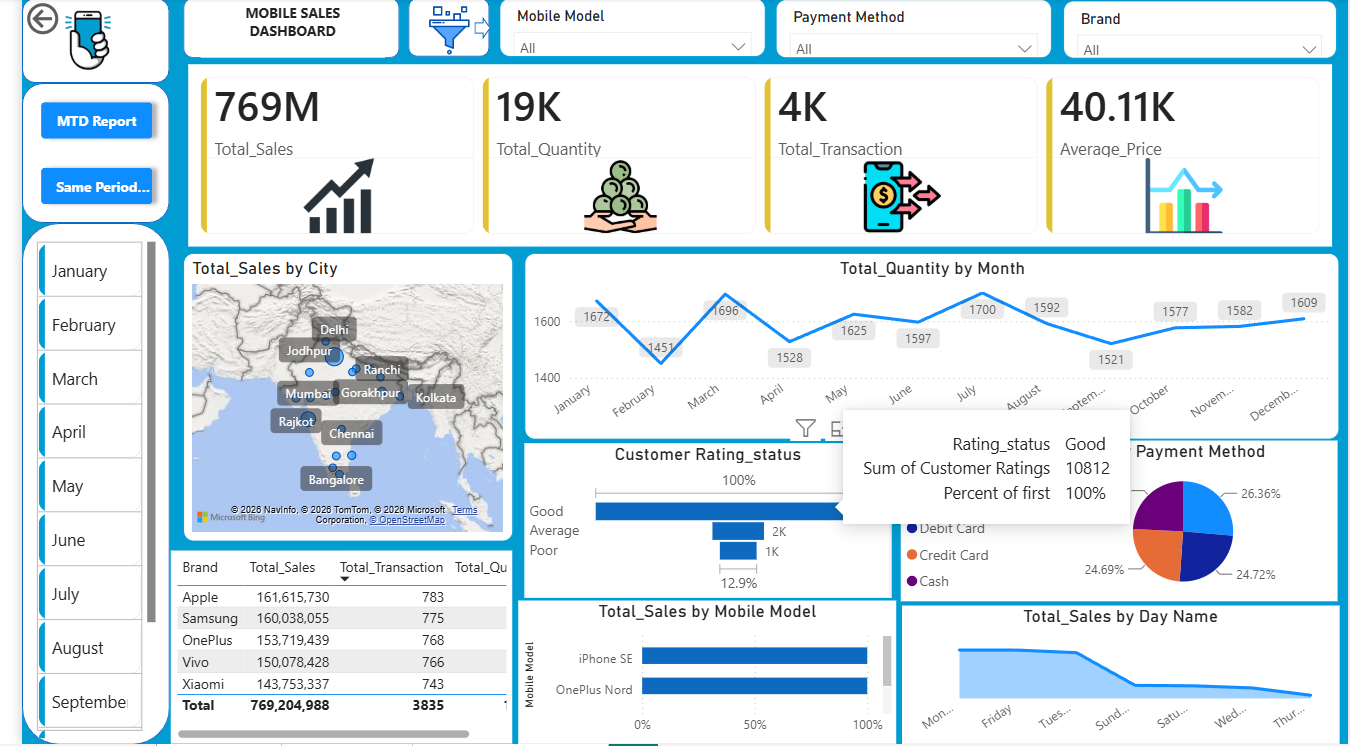

The dashboard page shown, as its layout file describes it:
{"tool":"powerbi","page":{"name":"Dashboard","canvas":[1280,720],"ordinal":0},"visuals":[{"type":"shape","box":[0,0,142.4,82],"z":0},{"type":"image","box":[26.5,0,74.8,78.4],"z":1000},{"type":"shape","box":[0,82,142.4,135.1],"z":2000},{"type":"shape","box":[0,216.8,142.7,503.6],"z":3000},{"type":"advancedSlicerVisual","fields":{"Values":["Custom_Calender.Column1.Variation.Date Hierarchy.Month"]},"box":[9.6,230.5,124.9,489.9],"z":4000},{"type":"cardVisual","fields":{"Data":["Mobile_Sales_Data.Total_Sales","Mobile_Sales_Data.Total_Quantity","Mobile_Sales_Data.Total_Transaction","Mobile_Sales_Data.Average_Price"]},"box":[155.6,59.1,1114.8,187],"z":5000},{"type":"slicer","fields":{"Values":["Mobile_Sales_Data.Mobile Model"]},"box":[460.9,0,257,56.7],"z":6000},{"type":"slicer","fields":{"Values":["Mobile_Sales_Data.Payment Method"]},"box":[727.5,1.2,266.6,56.7],"z":7000},{"type":"slicer","fields":{"Values":["Mobile_Sales_Data.Brand"]},"box":[1005,2.5,263.8,56.2],"z":8000},{"type":"shape","box":[372.8,0,78.4,56.7],"z":9000},{"type":"image","box":[388.5,4.8,48.3,53.1],"z":10000},{"type":"shape","box":[436.7,18.1,15.7,21.7],"z":11000},{"type":"shape","box":[155.6,0,208.7,57.9],"z":12000},{"type":"textbox","box":[172.5,0,177.3,57.9],"z":13000},{"type":"map","fields":{"Category":["Mobile_Sales_Data.City"],"Size":["Mobile_Sales_Data.Total_Sales"]},"box":[155.1,245.6,318.4,278.6],"z":14000},{"type":"lineChart","fields":{"Category":["Custom_Calender.Column1.Variation.Date Hierarchy.Month"],"Y":["Mobile_Sales_Data.Total_Quantity"]},"box":[484.4,245.6,786.3,179.8],"z":15000},{"type":"funnel","title":"Customer Rating_status","fields":{"Y":["Sum(Mobile_Sales_Data.Customer Ratings)"],"Category":["Mobile_Sales_Data.Rating_status"]},"box":[484.4,429.5,354,149.6],"z":16000},{"type":"pieChart","fields":{"Y":["Mobile_Sales_Data.Total_Transaction"],"Category":["Mobile_Sales_Data.Payment Method"]},"box":[848,426.8,421.3,155.1],"z":17000},{"type":"hundredPercentStackedBarChart","fields":{"Y":["Mobile_Sales_Data.Total_Sales"],"Category":["Mobile_Sales_Data.Mobile Model"]},"box":[478.9,581.8,365,138.6],"z":18000},{"type":"areaChart","fields":{"Y":["Mobile_Sales_Data.Total_Sales"],"Category":["Custom_Calender.Day Name"]},"box":[849.3,586.3,422.3,133.9],"z":19000},{"type":"tableEx","fields":{"Values":["Mobile_Sales_Data.Brand","Mobile_Sales_Data.Total_Sales","Mobile_Sales_Data.Total_Transaction","Mobile_Sales_Data.Total_Quantity"]},"box":[144.1,533.8,329.3,186.6],"z":20000},{"type":"actionButton","box":[0,0,100,40],"z":21000},{"type":"pageNavigator","box":[10,91.2,125,116.2],"z":22000}]}

Visuals, with their boxes in screenshot pixels (x1, y1, x2, y2), scaled from the page's 1280x720 canvas onto the 1350x746 screenshot:
shape: BBox(0, 0, 150, 85)
image: BBox(28, 0, 107, 81)
shape: BBox(0, 85, 150, 225)
shape: BBox(0, 225, 151, 745)
advancedSlicerVisual - Custom_Calender.Column1.Variation.Date Hierarchy.Month: BBox(10, 239, 142, 745)
cardVisual - Mobile_Sales_Data.Total_Sales x Mobile_Sales_Data.Total_Quantity: BBox(164, 61, 1340, 255)
slicer - Mobile_Sales_Data.Mobile Model: BBox(486, 0, 757, 59)
slicer - Mobile_Sales_Data.Payment Method: BBox(767, 1, 1048, 60)
slicer - Mobile_Sales_Data.Brand: BBox(1060, 3, 1338, 61)
shape: BBox(393, 0, 476, 59)
image: BBox(410, 5, 461, 60)
shape: BBox(461, 19, 477, 41)
shape: BBox(164, 0, 384, 60)
textbox: BBox(182, 0, 369, 60)
map - Mobile_Sales_Data.City x Mobile_Sales_Data.Total_Sales: BBox(164, 254, 499, 543)
lineChart - Custom_Calender.Column1.Variation.Date Hierarchy.Month x Mobile_Sales_Data.Total_Quantity: BBox(511, 254, 1340, 441)
"Customer Rating_status" funnel: BBox(511, 445, 884, 600)
pieChart - Mobile_Sales_Data.Total_Transaction x Mobile_Sales_Data.Payment Method: BBox(894, 442, 1339, 603)
hundredPercentStackedBarChart - Mobile_Sales_Data.Total_Sales x Mobile_Sales_Data.Mobile Model: BBox(505, 603, 890, 745)
areaChart - Mobile_Sales_Data.Total_Sales x Custom_Calender.Day Name: BBox(896, 607, 1341, 745)
tableEx - Mobile_Sales_Data.Brand x Mobile_Sales_Data.Total_Sales: BBox(152, 553, 499, 745)
actionButton: BBox(0, 0, 105, 41)
pageNavigator: BBox(11, 94, 142, 215)
